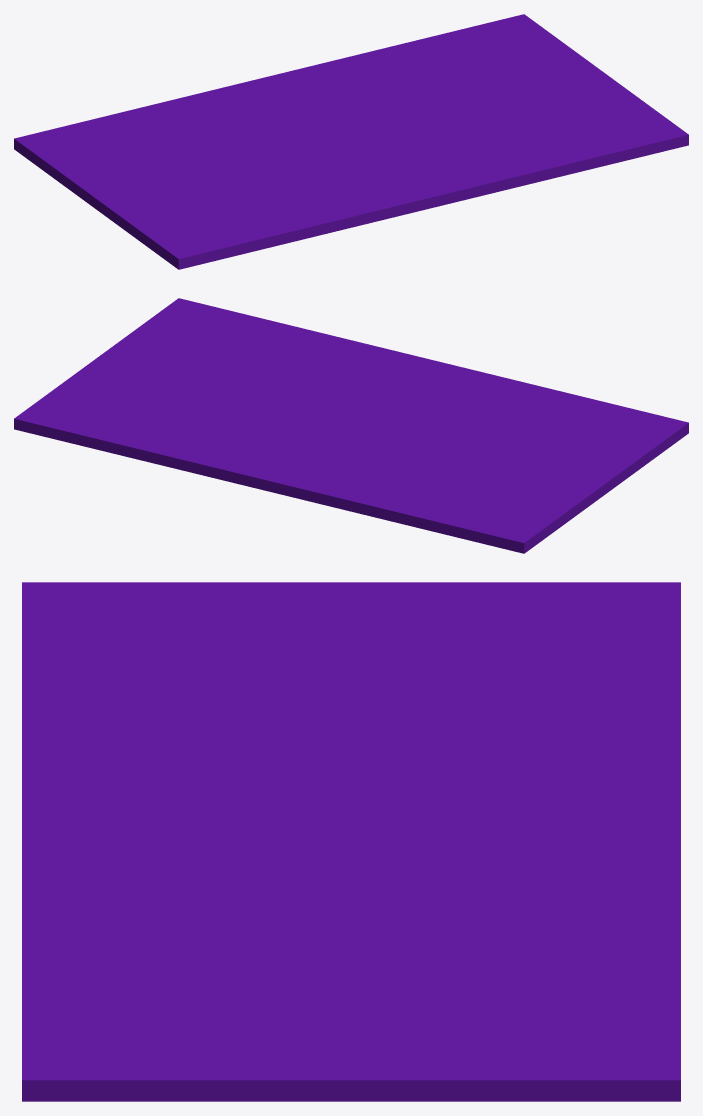
Rendered from Exhibition_19.005_chunks.fbx.
3 views of the same model, one above another, from view 1: azimuth 30°, elevation 25°; view 2: azimuth 150°, elevation 25°; view 3: azimuth 270°, elevation 25° (orthographic). The views are drawn at different scales.
Parts seen in each view (by area): view 1: Exhibition_19.005_2, Exhibition_19.005_1, Exhibition_19.005_3, Exhibition_19.005_5, Exhibition_19.005_4, Exhibition_19.005_6; view 2: Exhibition_19.005_2, Exhibition_19.005_1, Exhibition_19.005_5, Exhibition_19.005_3, Exhibition_19.005_4, Exhibition_19.005_6; view 3: Exhibition_19.005_2, Exhibition_19.005_1, Exhibition_19.005_5, Exhibition_19.005_3, Exhibition_19.005_4, Exhibition_19.005_6.
Part boxes in pixels (x1=…): Exhibition_19.005_2: x1=14, y1=85, x2=351, y2=269; Exhibition_19.005_1: x1=232, y1=14, x2=646, y2=136; Exhibition_19.005_3: x1=289, y1=150, x2=585, y2=242; Exhibition_19.005_5: x1=447, y1=104, x2=688, y2=170; Exhibition_19.005_4: x1=295, y1=126, x2=454, y2=223; Exhibition_19.005_6: x1=435, y1=137, x2=474, y2=161; Exhibition_19.005_2: x1=306, y1=395, x2=688, y2=553; Exhibition_19.005_1: x1=14, y1=328, x2=351, y2=500; Exhibition_19.005_5: x1=137, y1=298, x2=317, y2=390; Exhibition_19.005_3: x1=283, y1=323, x2=576, y2=397; Exhibition_19.005_4: x1=283, y1=377, x2=556, y2=420; Exhibition_19.005_6: x1=300, y1=368, x2=361, y2=382; Exhibition_19.005_2: x1=22, y1=582, x2=680, y2=831; Exhibition_19.005_1: x1=187, y1=795, x2=680, y2=1101; Exhibition_19.005_5: x1=22, y1=907, x2=297, y2=1101; Exhibition_19.005_3: x1=22, y1=691, x2=172, y2=978; Exhibition_19.005_4: x1=50, y1=703, x2=350, y2=910; Exhibition_19.005_6: x1=163, y1=867, x2=247, y2=908.
Bounding box in the file's own units: 642 × 12.85 × 359.
